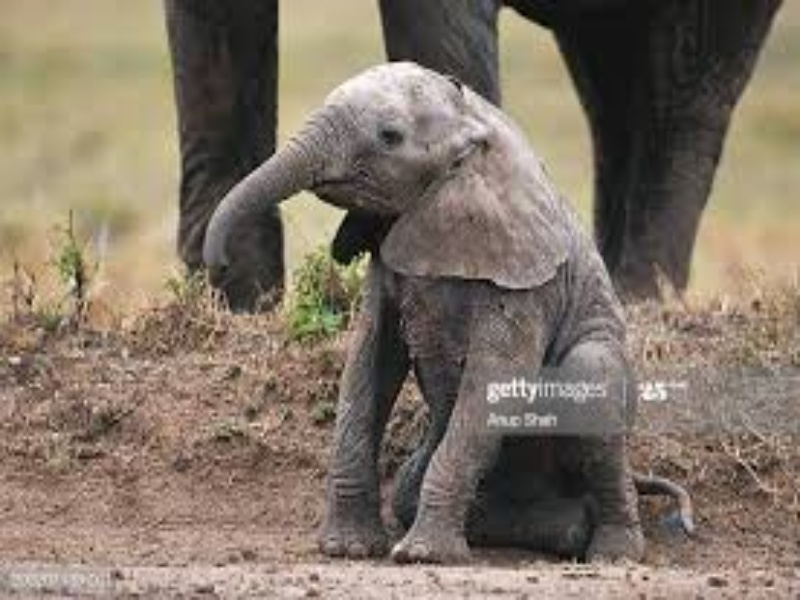elephant: (196, 56, 689, 565)
